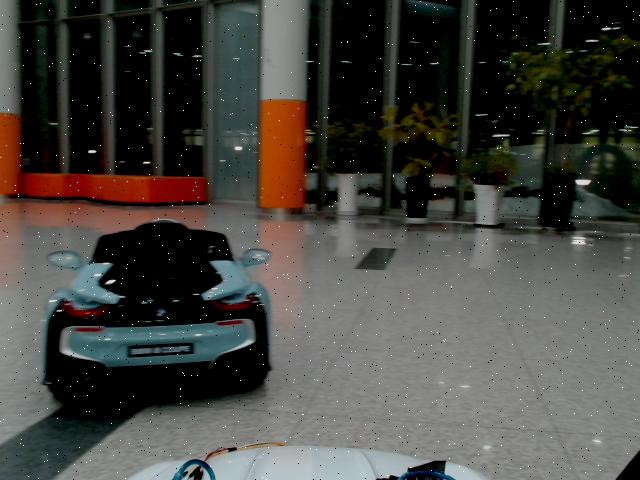car: (42, 218, 273, 402)
